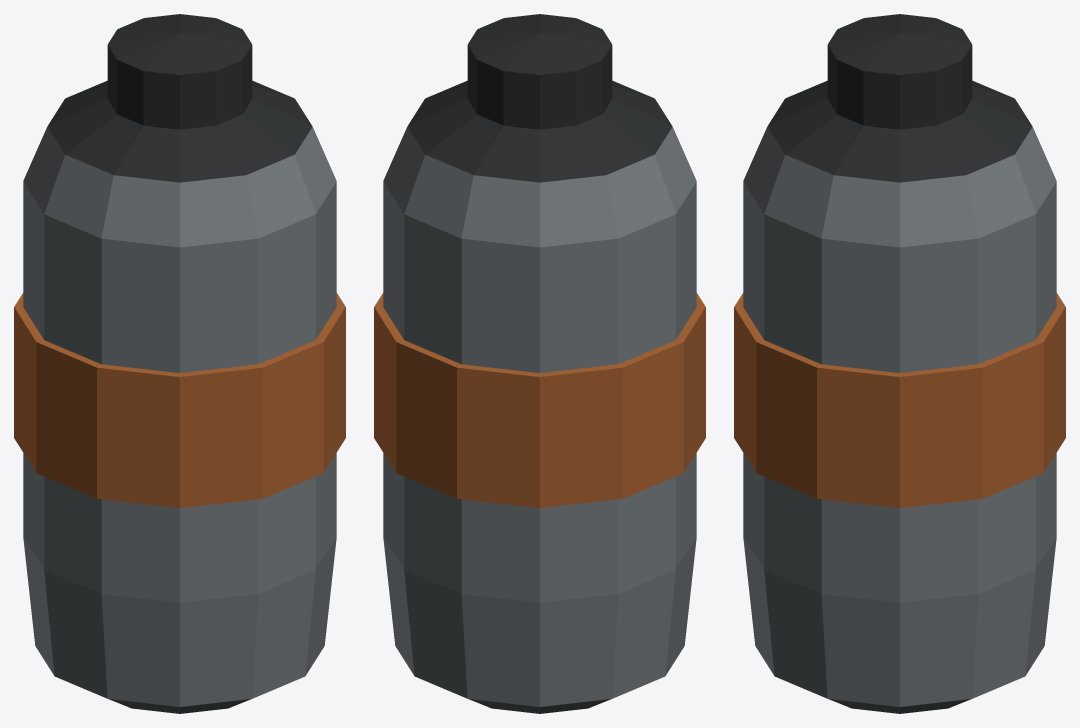
File: gas_capsule.glb
3 renders of one model, left to right at view 1: azimuth 30°, elevation 25°; view 2: azimuth 150°, elevation 25°; view 3: azimuth 270°, elevation 25°, orthographic.
Parts seen in each view (by area): view 1: gas_capsule; view 2: gas_capsule; view 3: gas_capsule.
Boxes of the visible parts, x1,y1,x2,y2 form: gas_capsule: [14, 14, 345, 713]; gas_capsule: [374, 14, 705, 713]; gas_capsule: [734, 14, 1065, 713].
Size of the model in its own units: 0.055 by 0.117 by 0.055.
